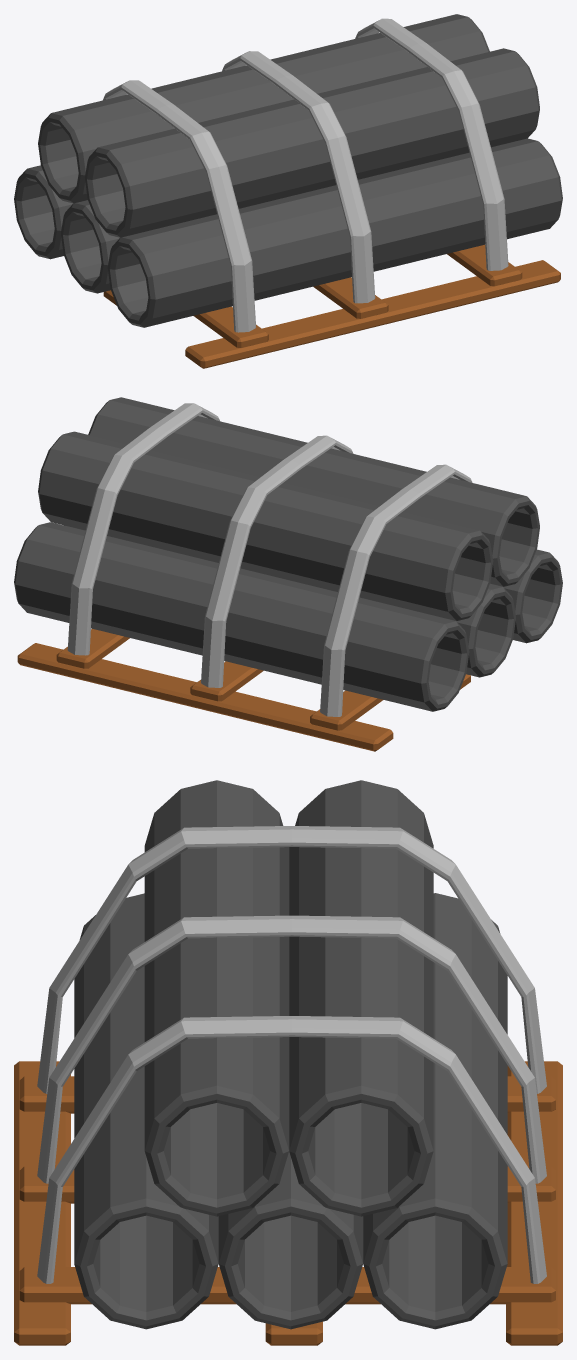
Rendered from Pipe Holder B.fbx.
3 views of the same model, one above another, from view 1: azimuth 30°, elevation 25°; view 2: azimuth 150°, elevation 25°; view 3: azimuth 270°, elevation 25° (orthographic). The views are drawn at different scales.
Parts seen in each view (by area): view 1: Pipe Holder B; view 2: Pipe Holder B; view 3: Pipe Holder B.
Part boxes in pixels (<box>): Pipe Holder B: <box>14,14,562,368</box>; Pipe Holder B: <box>14,397,562,751</box>; Pipe Holder B: <box>14,780,562,1345</box>.
Size of the model in its own units: 522 by 226 by 390.
